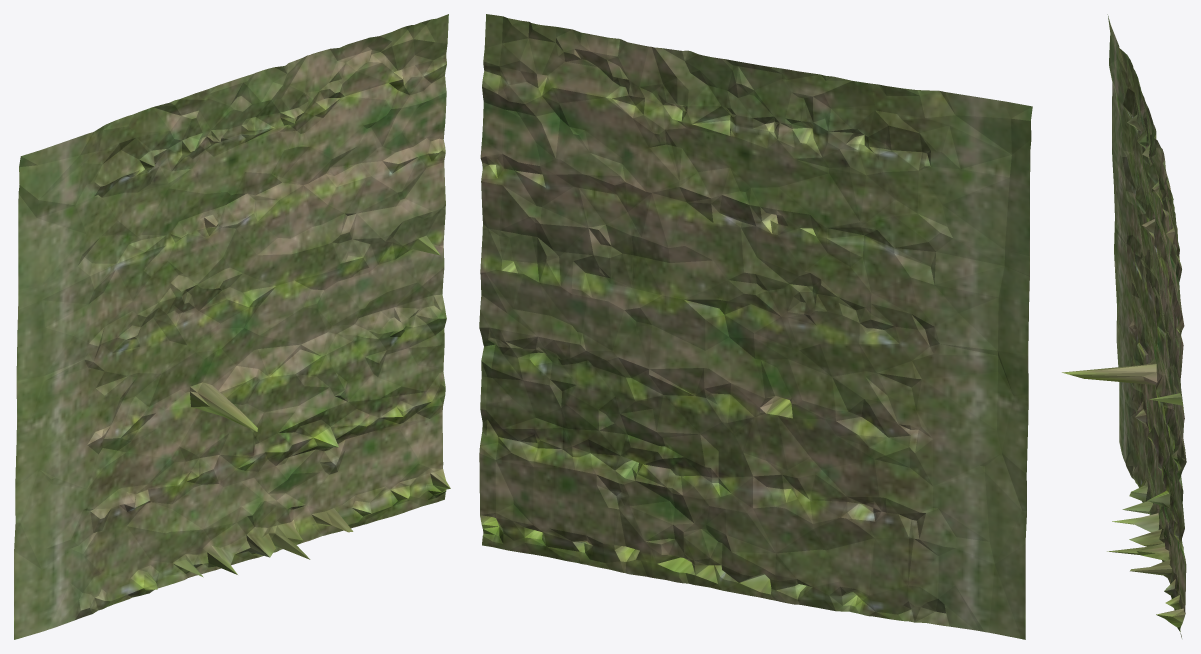
File: map_160_90.obj
3 renders of one model, left to right at view 1: azimuth 30°, elevation 25°; view 2: azimuth 150°, elevation 25°; view 3: azimuth 270°, elevation 25°, orthographic. The views are drawn at different scales.
Parts seen in each view (by area): view 1: grp1; view 2: grp1; view 3: grp1.
Boxes of the visible parts, <box> form: grp1: <box>14,14,450,639</box>; grp1: <box>479,14,1032,639</box>; grp1: <box>1062,14,1186,637</box>.
Bounding box in the file's own units: 10 × 10 × 2.66.
1 material, 1 textured.
